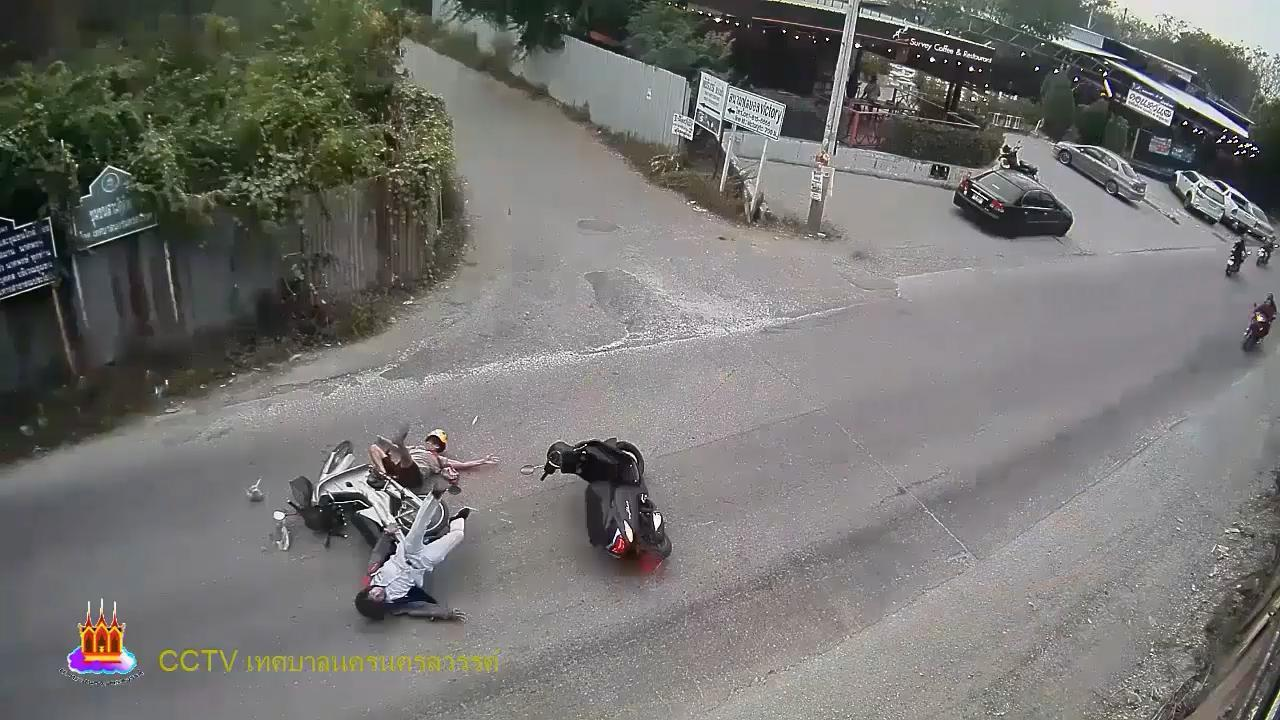accident: (349, 483, 474, 627), (368, 420, 501, 485)
